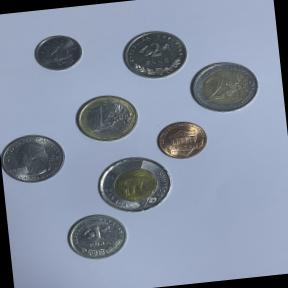coin: (184, 54, 268, 119), (94, 152, 178, 217), (0, 127, 71, 191), (117, 25, 192, 84), (68, 90, 144, 148), (153, 117, 212, 164), (30, 30, 87, 76)
